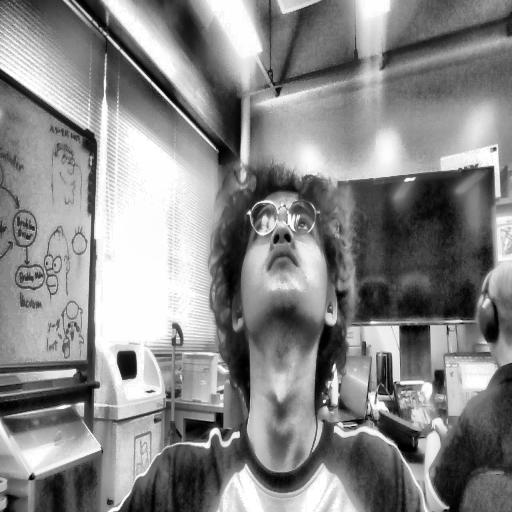Daifuku: (204, 166, 357, 394)
Not Daifuku: (477, 264, 512, 376)
